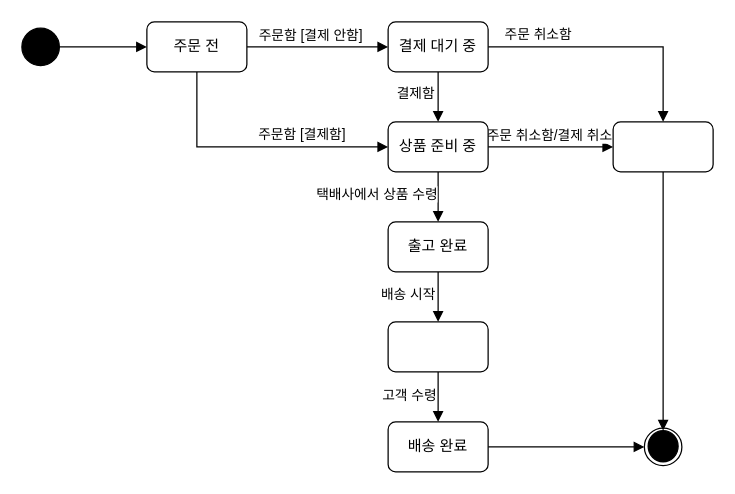
The diagram is 735 pixels wide and 494 high, and some of its shapes have lost their labels. The shapes that lost their labels are listed below. From the top down, each one's box as (x1, y1, x2, y2) in pixels, then its label:
(612, 121, 713, 172): 주문 취소
(387, 321, 488, 372): 배송 중
